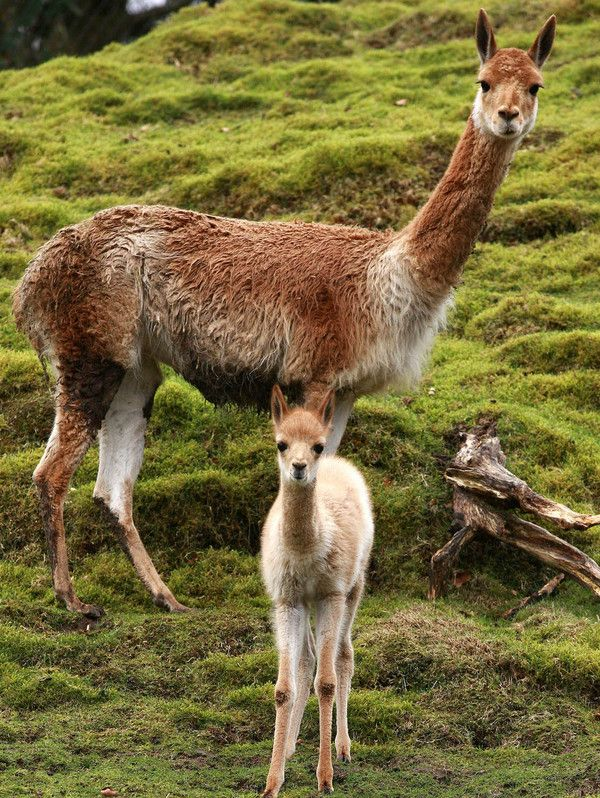eye: (470, 79, 499, 98), (274, 437, 290, 463), (314, 439, 330, 460), (527, 84, 540, 96)
mouth: (492, 112, 527, 147), (289, 465, 318, 489)
